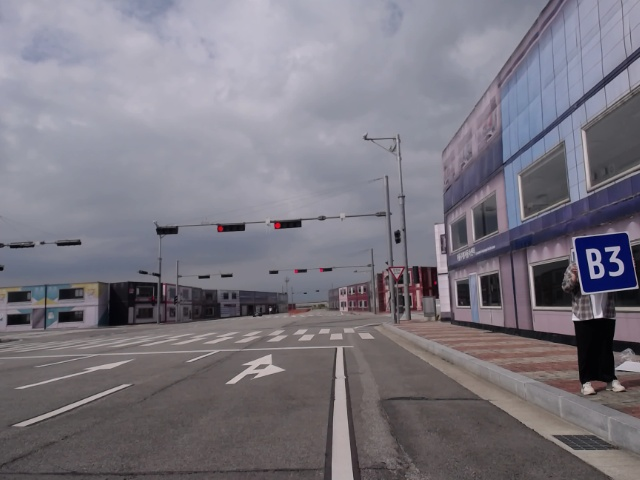delivery_b3: (572, 233, 639, 295)
red_4: (271, 218, 304, 230), (215, 223, 248, 234), (292, 266, 308, 274), (318, 266, 336, 273)
